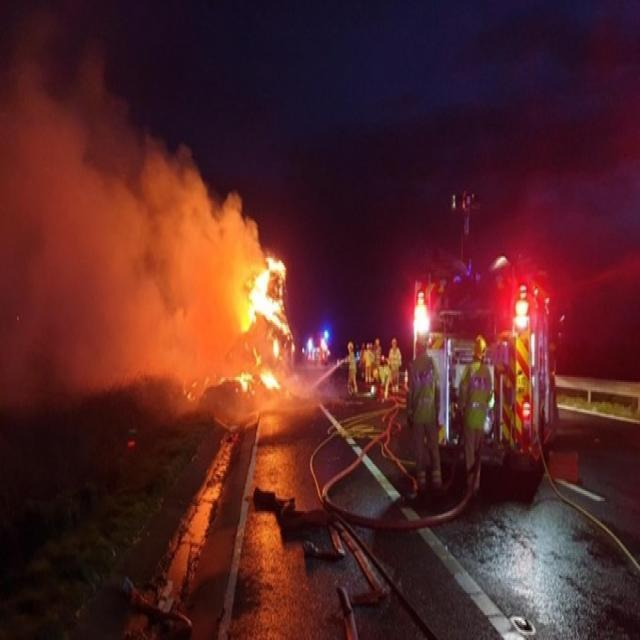Fire: (230, 225, 294, 392)
Smoke: (8, 36, 252, 390)
